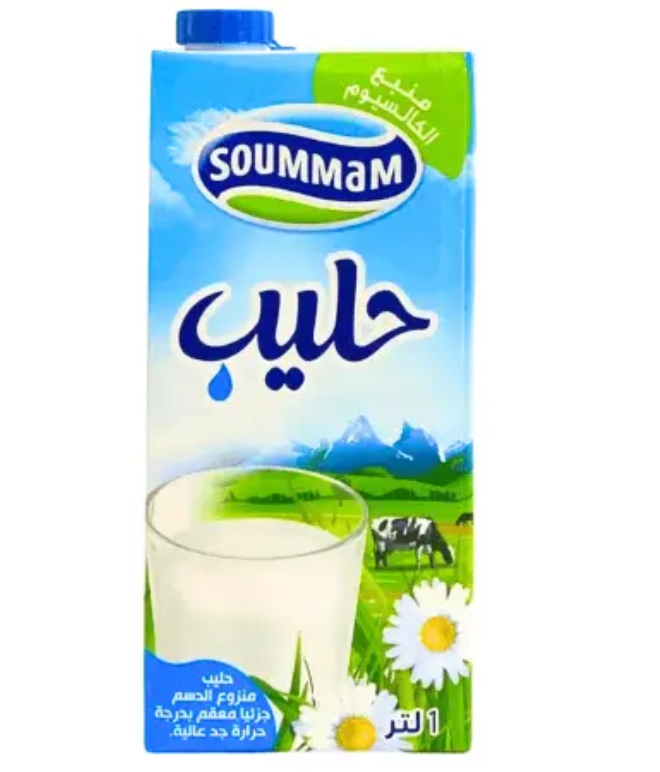soummam_milk: (140, 2, 486, 764)
